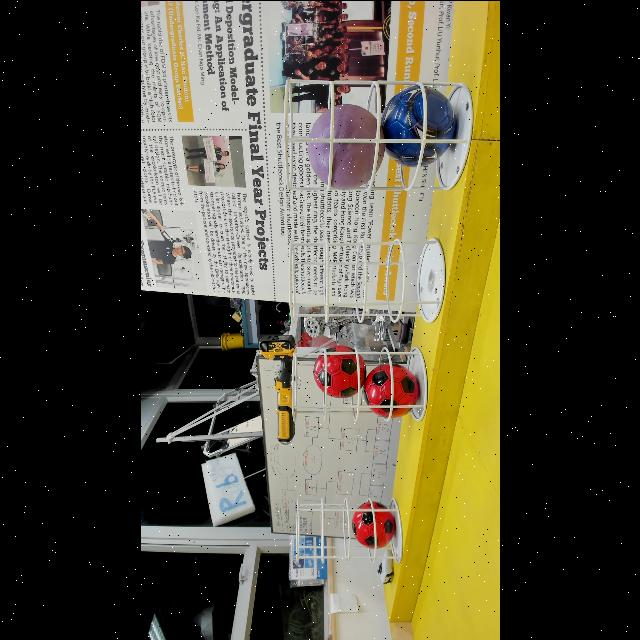B: (378, 83, 459, 169)
P: (304, 103, 384, 191)
R: (362, 359, 422, 418), (310, 344, 368, 398), (348, 499, 398, 548)
S: (281, 76, 475, 194), (286, 235, 449, 327), (284, 345, 432, 423), (290, 494, 404, 566)
